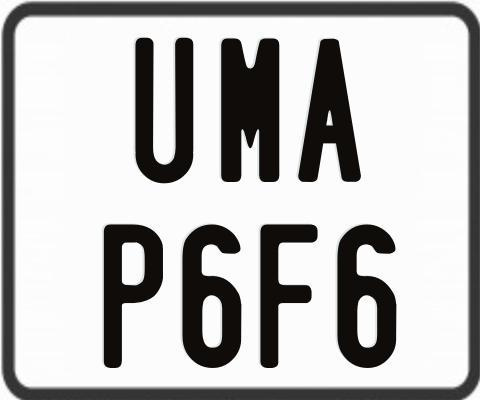6: (335, 221, 396, 371), (180, 221, 241, 365)
A: (296, 36, 361, 180)
F: (258, 222, 320, 367)
M: (218, 38, 281, 182)
P: (101, 223, 163, 370)
U: (133, 37, 191, 187)
